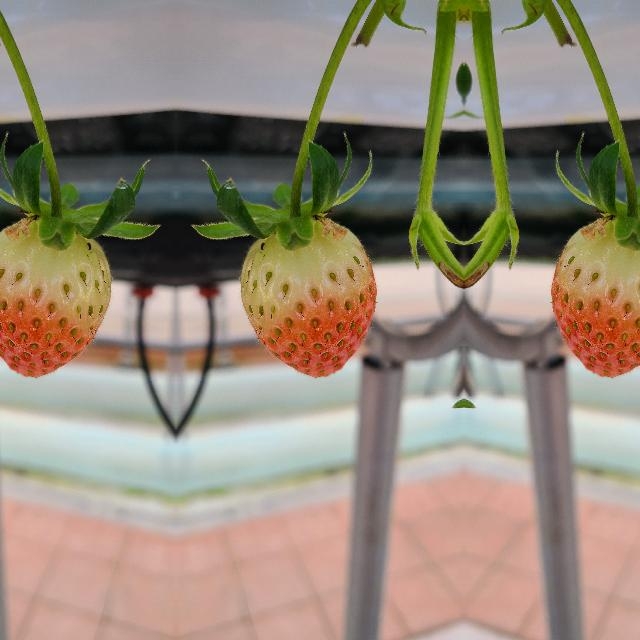Health_50: (240, 221, 376, 377), (0, 221, 109, 377), (550, 221, 640, 377)
